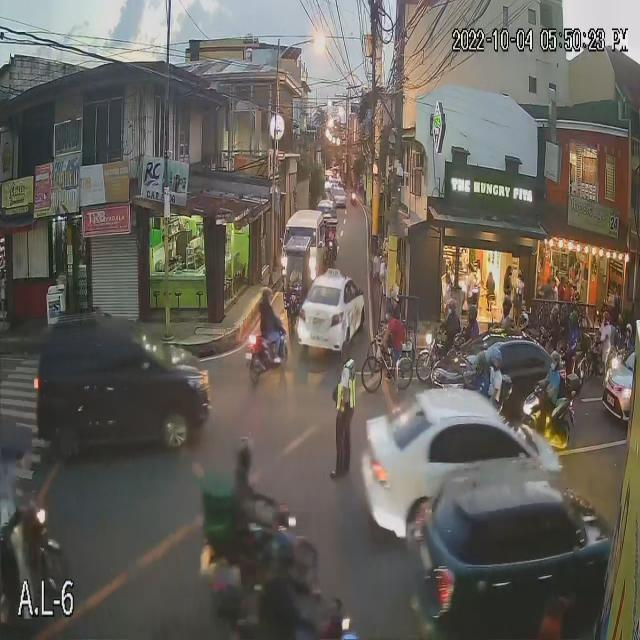helmet: (231, 434, 261, 476), (288, 538, 320, 575), (264, 529, 291, 571), (467, 346, 491, 379), (544, 344, 569, 375), (486, 346, 507, 375), (498, 292, 516, 317), (563, 313, 580, 337), (256, 286, 276, 306), (463, 301, 483, 321), (514, 311, 534, 329), (446, 295, 459, 319), (558, 298, 572, 319), (599, 309, 612, 328), (548, 303, 558, 326), (622, 321, 634, 340)
motorcycle: (204, 500, 317, 608), (214, 594, 363, 640), (527, 384, 580, 440), (250, 316, 294, 376), (420, 325, 458, 381), (580, 339, 619, 384), (557, 341, 588, 385), (608, 349, 635, 375)
rider: (246, 528, 299, 617), (226, 437, 264, 529), (292, 534, 328, 622), (539, 353, 569, 411), (486, 343, 510, 411), (255, 279, 279, 346), (469, 343, 492, 401), (440, 299, 465, 349), (490, 295, 519, 337), (462, 294, 487, 341), (561, 310, 588, 352), (555, 298, 576, 336), (512, 309, 536, 340), (546, 301, 564, 341), (599, 308, 613, 356), (620, 319, 636, 360)
